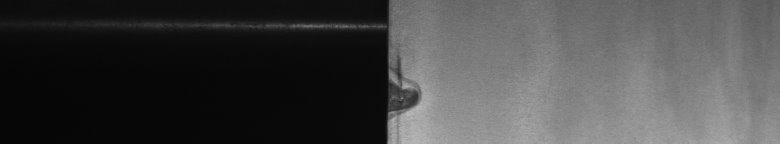hb: (396, 53, 428, 128)
